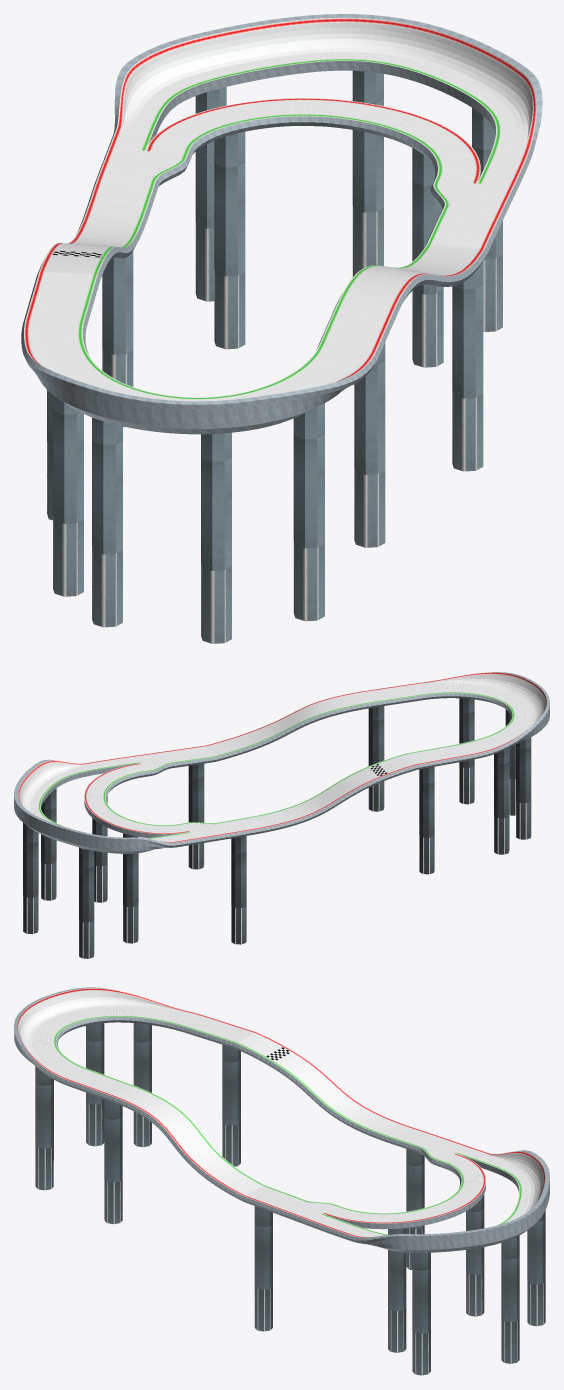
File: firebugstesnormalfix.obj
3 views of the same model, one above another, from view 1: azimuth 30°, elevation 25°; view 2: azimuth 150°, elevation 25°; view 3: azimuth 270°, elevation 25° (orthographic). The views are drawn at different scales.
Visible parts, largest first — view 1: scene; view 2: scene; view 3: scene.
Boxes of the visible parts, x1,y1,x2,y2 form: scene: (21, 14, 542, 643); scene: (14, 672, 549, 958); scene: (14, 987, 549, 1375).
Bounding box in the file's own units: 12.02 × 5.1 × 13.13.
Materials: 9 (9 with a texture image).
